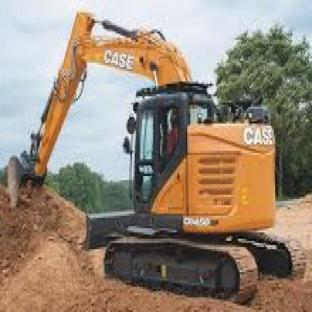ExcavationMachinery: (18, 14, 276, 304)
